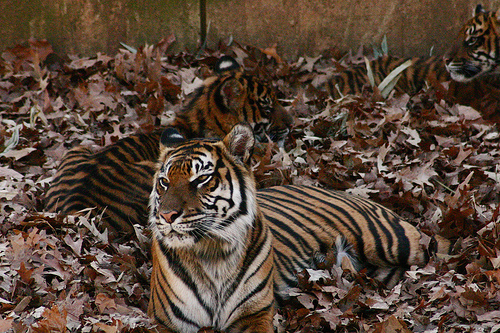Tigre: (152, 133, 439, 333)
